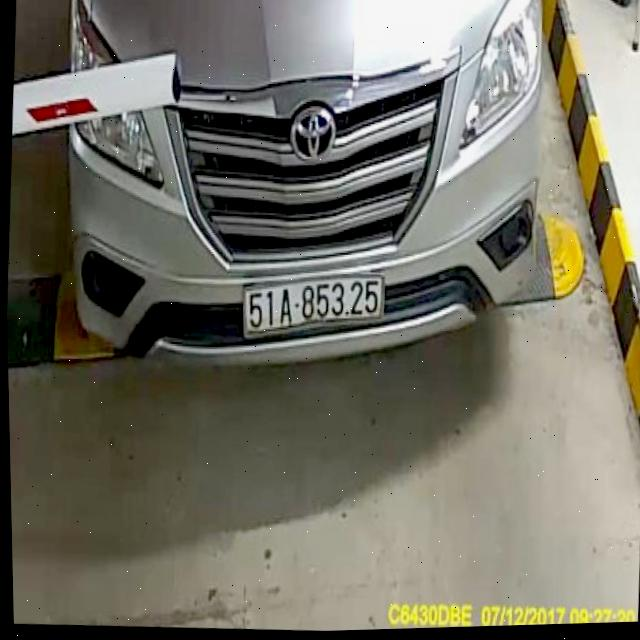car: (45, 0, 555, 394)
plate: (236, 265, 388, 348)
